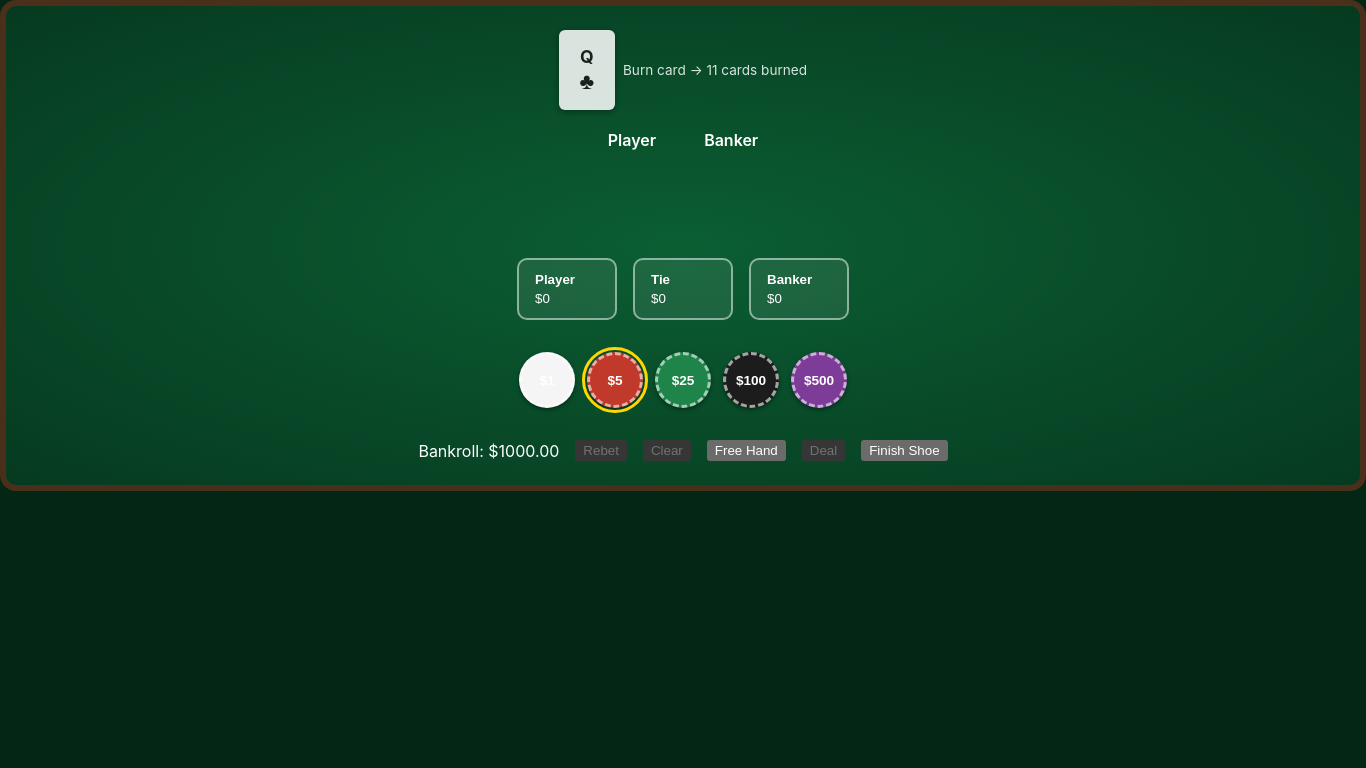
Test: Table › confirming Finish Shoe refunds bets, plays out the shoe, and disables the button
The width and height of the screenshot is (1366, 768).
Expected: the text "Bankroll: $1000.00" is shown, [418,440,559,460]
Step 1. Click the button with test id "chip-25" → (683, 380), box [655,352,711,408]
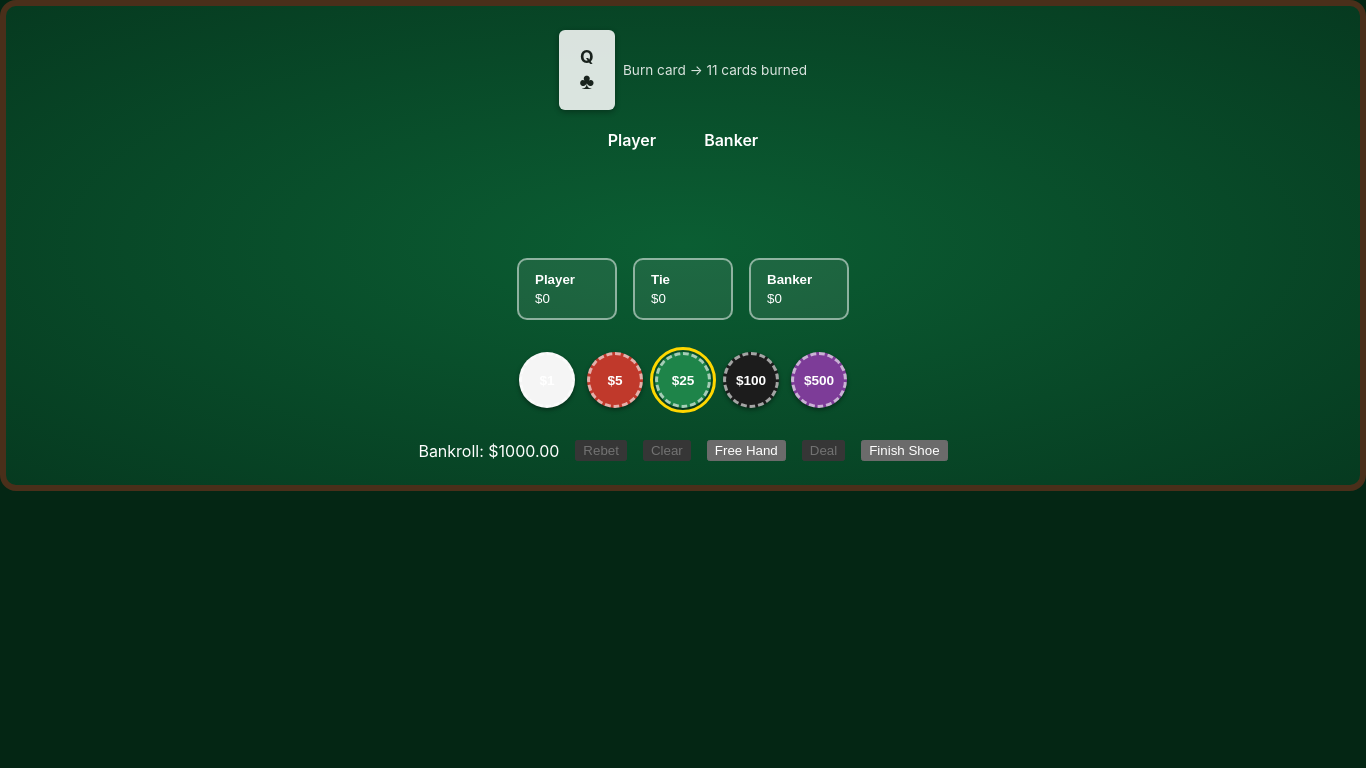
Step 2. Click the button with test id "bet-spot-player" → (567, 289), box [517,258,617,320]
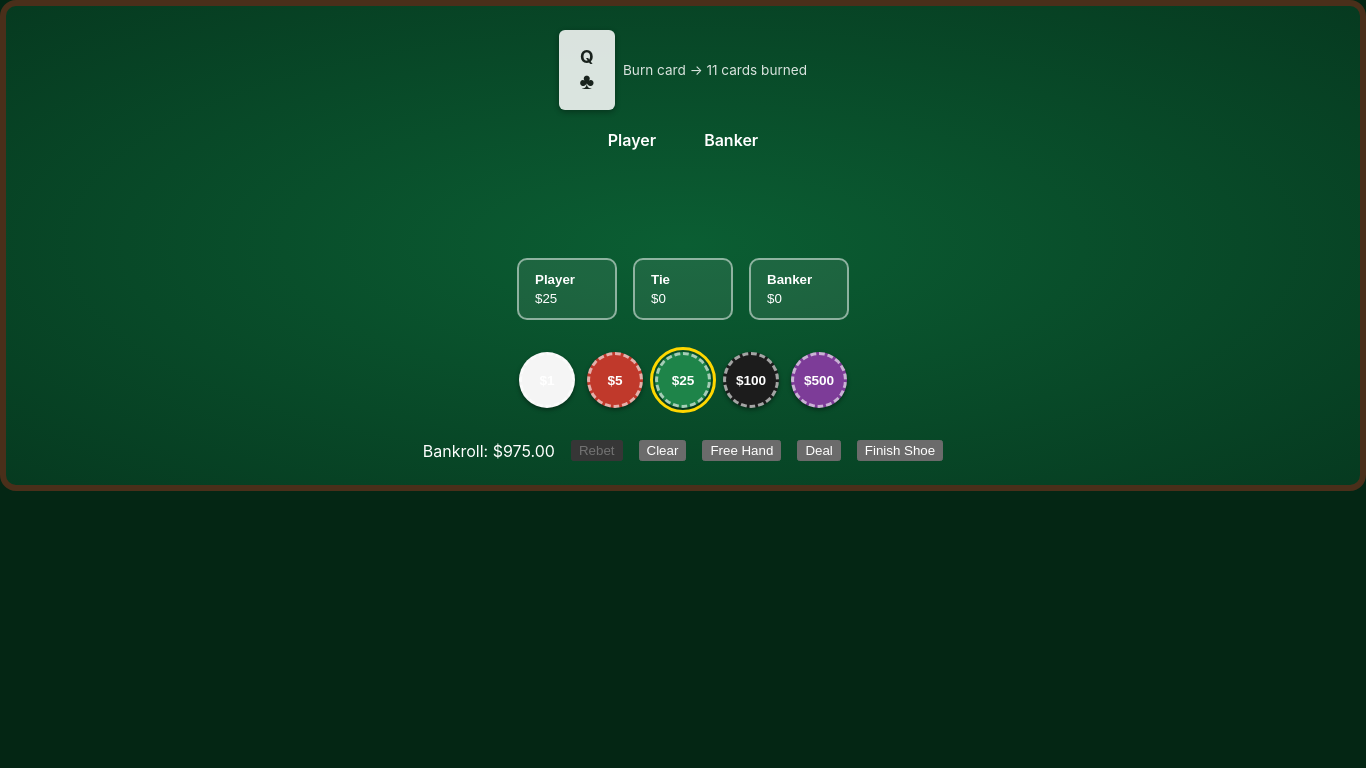
Now the text "Bankroll: $975.00" is shown, box [423,440,555,460]
Step 3. Click the button "Finish Shoe" → (900, 450), box [857,440,943,461]
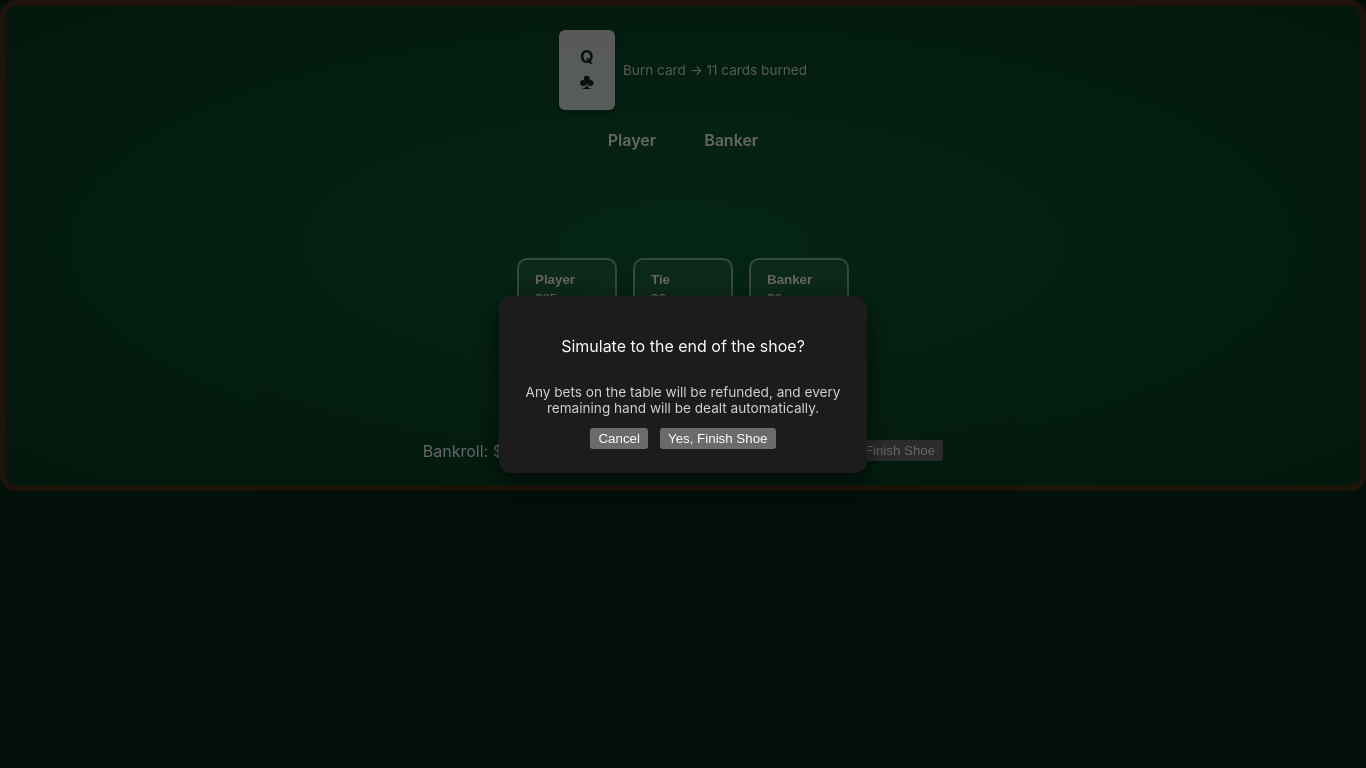
Step 4. Click the button "Yes, Finish Shoe" → (718, 438), box [660,428,776,448]
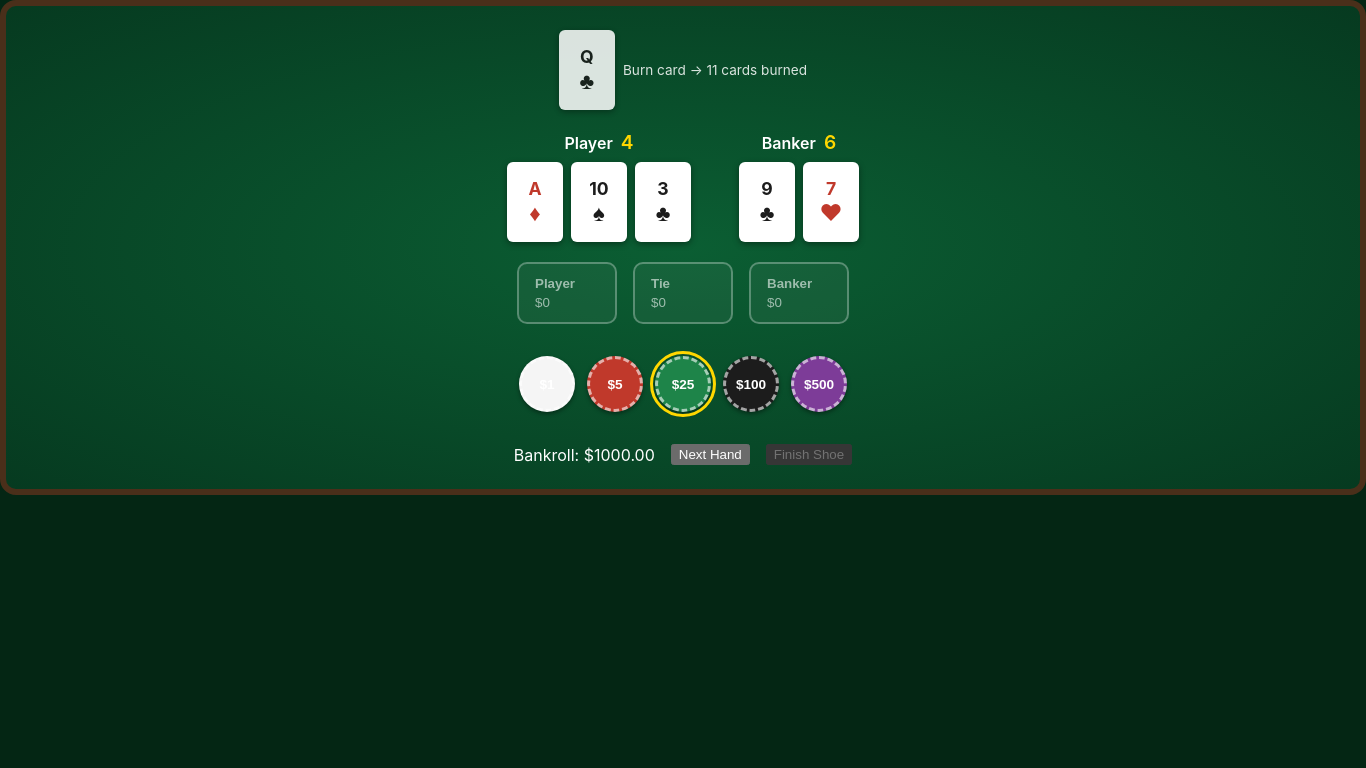
Now the text "Bankroll: $1000.00" is shown, box [514,444,655,464]
Now the button with test id "bet-spot-player" shows "$0", box [517,262,617,324]
Now the button "Next Hand" is shown, box [671,444,750,465]
